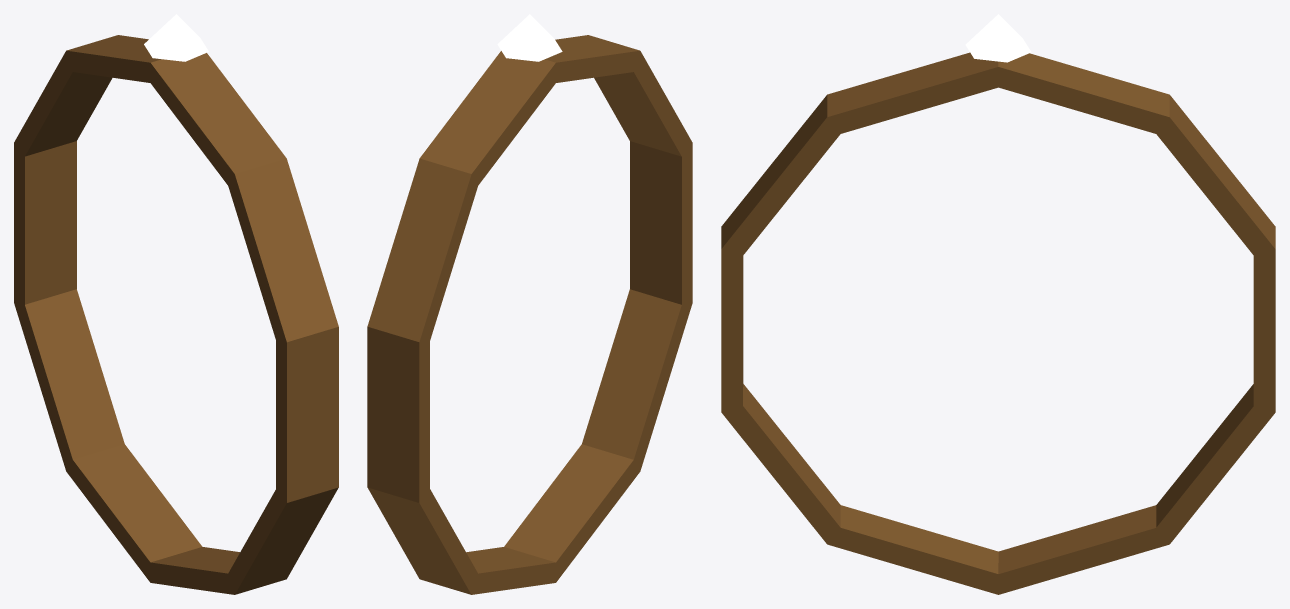
Rendered from armor_ring_common_orc.glb.
3 views of the same model, side by side, from view 1: azimuth 30°, elevation 25°; view 2: azimuth 150°, elevation 25°; view 3: azimuth 270°, elevation 25° (orthographic).
Parts seen in each view (by area): view 1: armor_ring_common_orc__middle_01_r; view 2: armor_ring_common_orc__middle_01_r; view 3: armor_ring_common_orc__middle_01_r.
Part boxes in pixels (box(x1,y1,x2,y2)): armor_ring_common_orc__middle_01_r: box(14, 14, 338, 594); armor_ring_common_orc__middle_01_r: box(367, 14, 692, 594); armor_ring_common_orc__middle_01_r: box(721, 14, 1275, 594).
Bounding box in the file's own units: 1.74 × 16.52 × 14.53.
